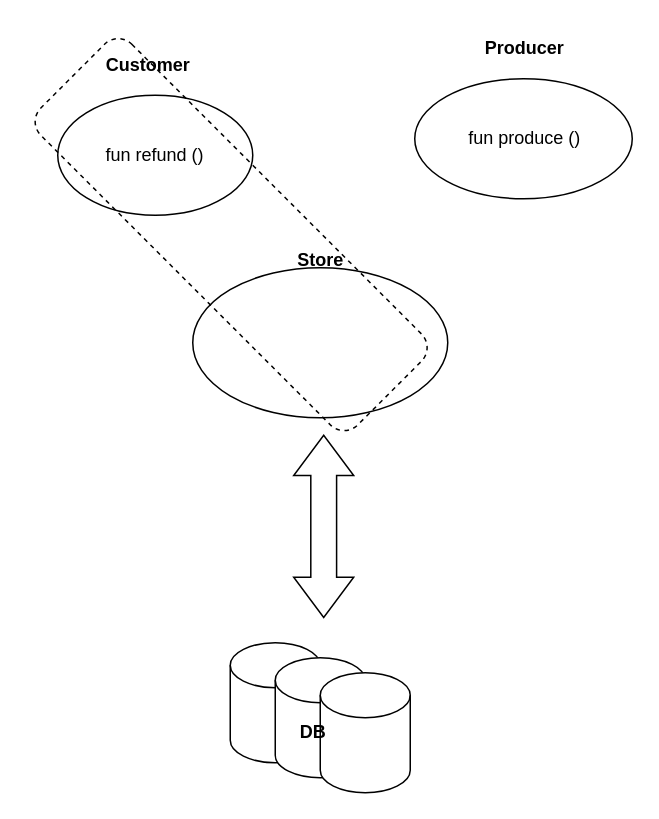
Some shapes in this 659 by 819 pixel diagram are drawn without their labels. The shapes that lost their labels are listed below. From the top down, each one's centre as x and y in pixels, then its label:
(230,234): Test 2
(319,342): fun addInventory()
